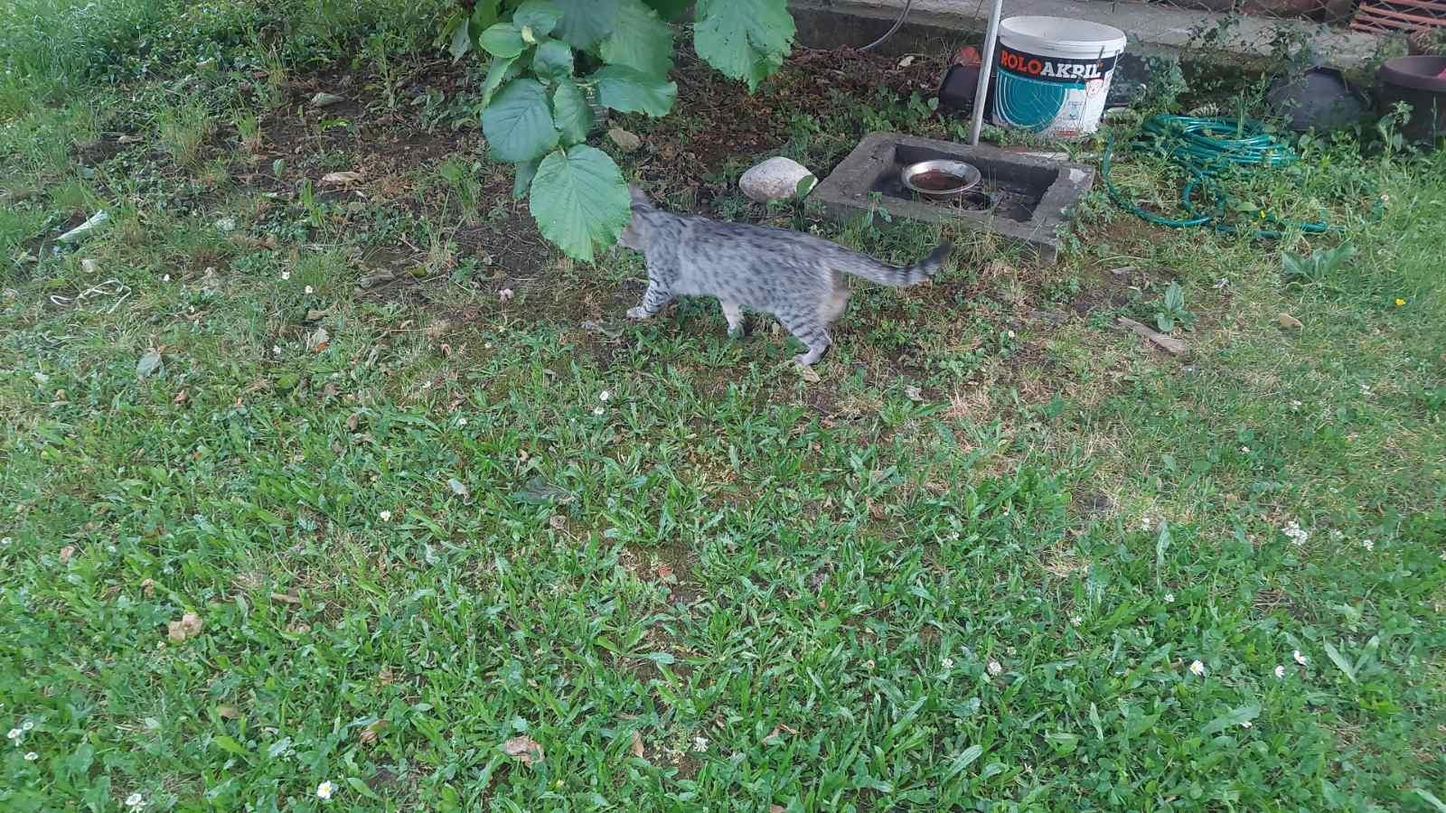macka: (606, 182, 953, 368)
